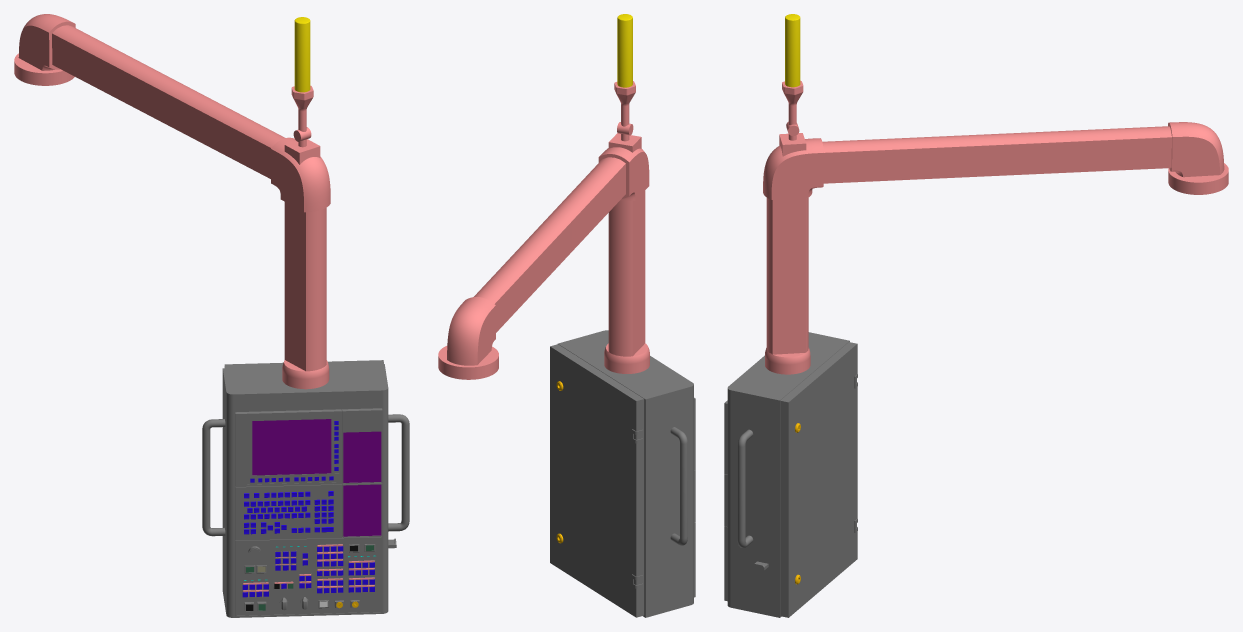
File: SM_Operationpanel.fbx
3 renders of one model, left to right at view 1: azimuth 30°, elevation 25°; view 2: azimuth 150°, elevation 25°; view 3: azimuth 270°, elevation 25°, orthographic. The views are drawn at different scales.
Parts seen in each view (by area): view 1: SM_Operationpanel; view 2: SM_Operationpanel; view 3: SM_Operationpanel.
Part boxes in pixels (x1,y1,x2,y2): SM_Operationpanel: [14, 14, 409, 617]; SM_Operationpanel: [438, 14, 695, 617]; SM_Operationpanel: [724, 14, 1228, 617].
Size of the model in its own units: 50.73 by 174 by 141.
